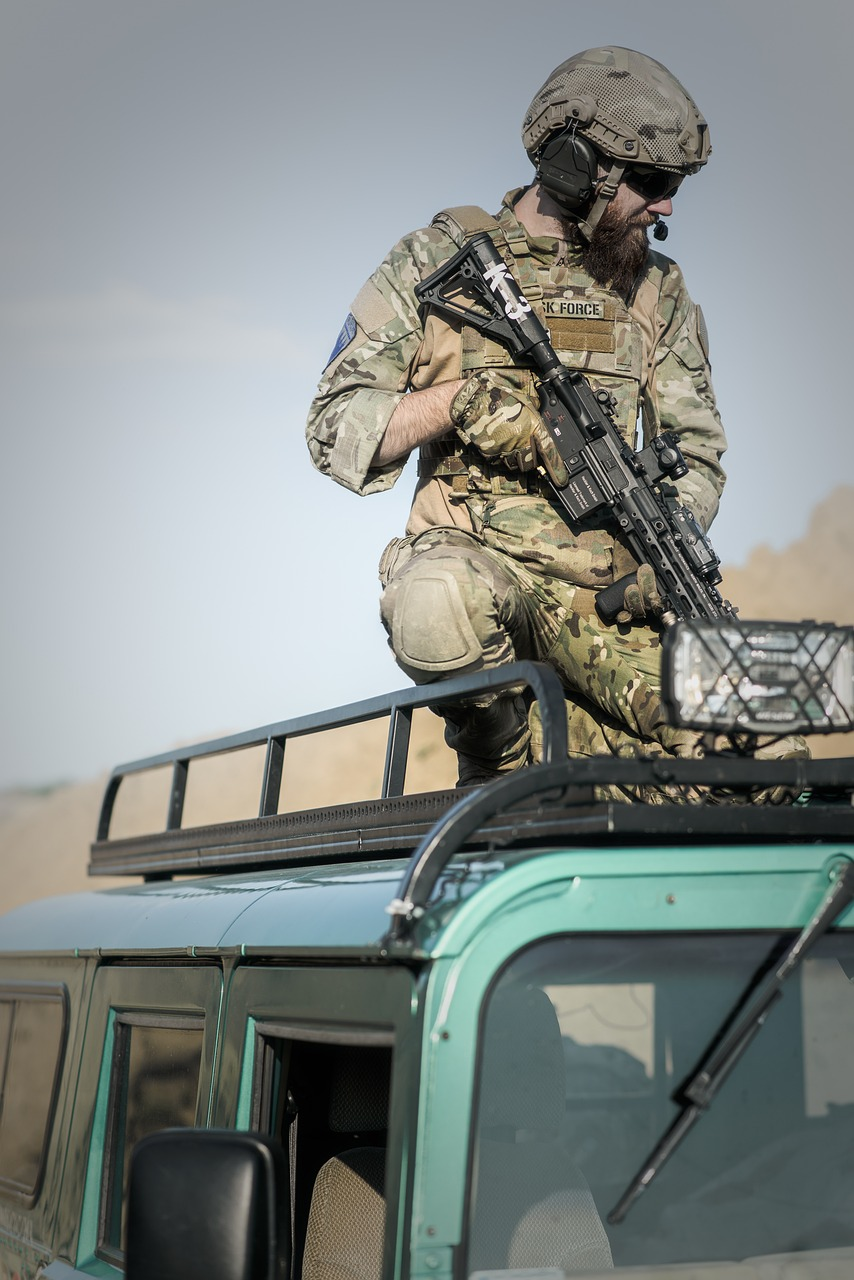gun: (405, 225, 745, 637)
